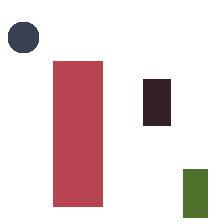circle: (8, 22, 38, 52)
rectangle: (53, 61, 102, 206), (143, 79, 170, 125), (183, 169, 207, 217)
